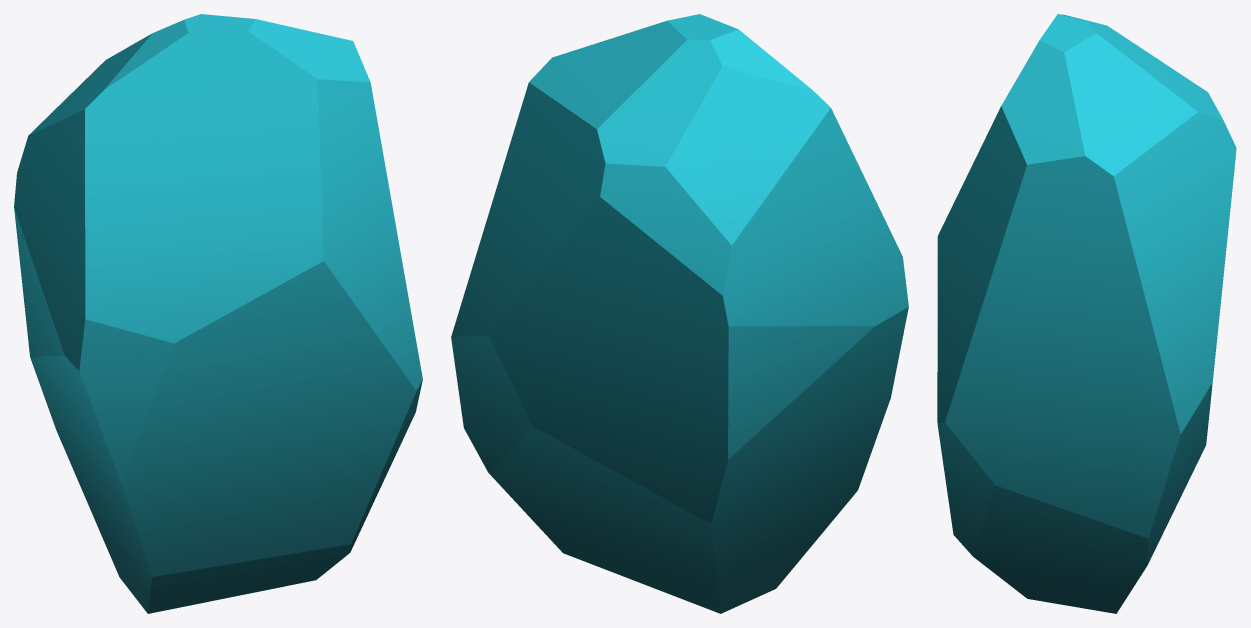
Rendered from SM_Stone_2_asdasd.fbx.
3 renders of one model, left to right at view 1: azimuth 30°, elevation 25°; view 2: azimuth 150°, elevation 25°; view 3: azimuth 270°, elevation 25°, orthographic. The views are drawn at different scales.
Visible parts, largest first — view 1: Stone_2:asdasd; view 2: Stone_2:asdasd; view 3: Stone_2:asdasd.
Part boxes in pixels (bbox=[...]): Stone_2:asdasd: bbox=[14, 14, 422, 613]; Stone_2:asdasd: bbox=[451, 14, 908, 613]; Stone_2:asdasd: bbox=[937, 14, 1236, 613].
Bounding box in the file's own units: 163 × 234 × 117.
Materials: 1 (1 with a texture image).
